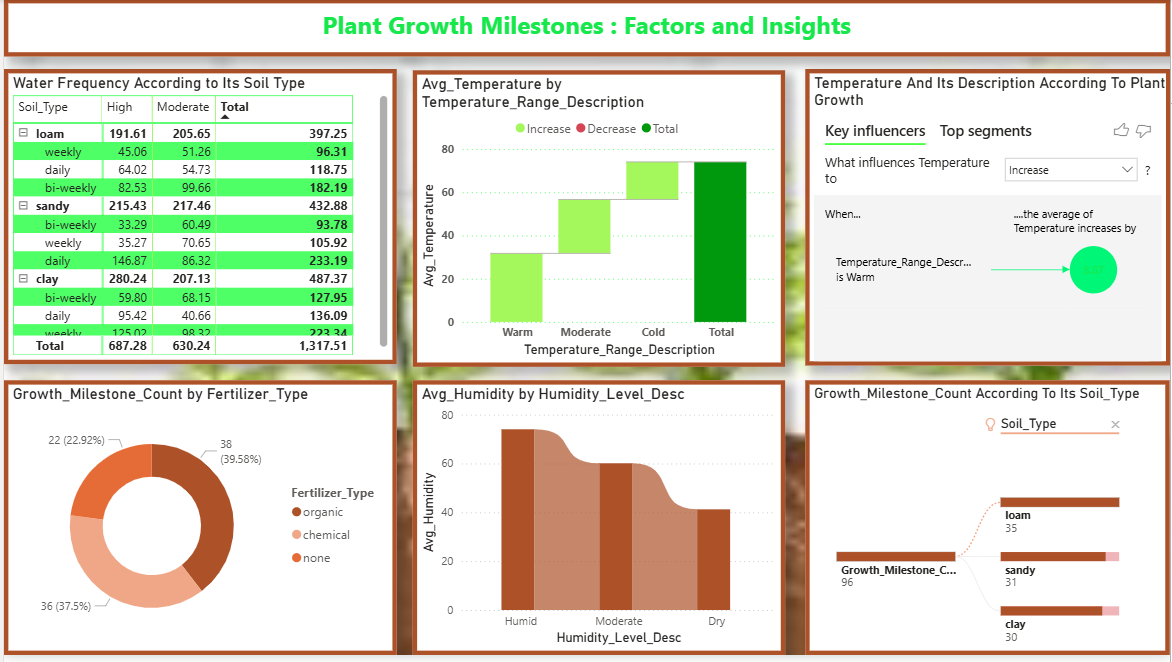

What the dashboard file says about the page in this screenshot:
{"tool":"powerbi","page":{"name":"Dashboard","canvas":[1280,720],"ordinal":0},"visuals":[{"type":"pivotTable","title":"Water Frequency According to Its Soil Type","fields":{"Rows":["plant_growth_data.Soil_Type","plant_growth_data.Water_Frequency"],"Columns":["plant_growth_data.Temp_Range"],"Values":["Sum(plant_growth_data.Sunlight_Hours)"]},"box":[0,77.1,431.4,324.3],"z":0},{"type":"waterfallChart","fields":{"Category":["plant_growth_data.Temperature_Range_Description"],"Y":["plant_growth_data.Avg_Temperature"]},"box":[448.7,78.2,408.9,325.2],"z":1000},{"type":"keyDriversVisual","title":"Temperature And Its Description According To Plant Growth","fields":{"Target":["plant_growth_data.Temperature"],"ExplainBy":["plant_growth_data.Temperature_Range_Description"]},"box":[879.6,76.8,400.7,325.2],"z":2000},{"type":"donutChart","fields":{"Category":["plant_growth_data.Fertilizer_Type"],"Y":["plant_growth_data.Growth_Milestone_Count"]},"box":[0,418.6,431.4,301.4],"z":3000},{"type":"ribbonChart","fields":{"Y":["plant_growth_data.Avg_Humidity"],"Category":["plant_growth_data.Humidity_Level_Desc"]},"box":[448.6,418.6,408.6,301.4],"z":4000},{"type":"decompositionTreeVisual","title":"Growth_Milestone_Count According To Its Soil_Type","fields":{"Analyze":["plant_growth_data.Growth_Milestone_Count"],"ExplainBy":["plant_growth_data.Soil_Type"]},"box":[880,418.6,400,301.4],"z":5000},{"type":"textbox","box":[0,0,1280,62.9],"z":6000}]}

Visuals, with their boxes in screenshot pixels (x1, y1, x2, y2), scaled from the page's 1280x720 canvas onto the 1172x662 screenshot:
"Water Frequency According to Its Soil Type" pivotTable: [left=0, top=71, right=395, bottom=369]
waterfallChart - plant_growth_data.Temperature_Range_Description x plant_growth_data.Avg_Temperature: [left=411, top=72, right=785, bottom=371]
"Temperature And Its Description According To Plant Growth" keyDriversVisual: [left=805, top=71, right=1171, bottom=370]
donutChart - plant_growth_data.Fertilizer_Type x plant_growth_data.Growth_Milestone_Count: [left=0, top=385, right=395, bottom=661]
ribbonChart - plant_growth_data.Avg_Humidity x plant_growth_data.Humidity_Level_Desc: [left=411, top=385, right=785, bottom=661]
"Growth_Milestone_Count According To Its Soil_Type" decompositionTreeVisual: [left=806, top=385, right=1171, bottom=661]
textbox: [left=0, top=0, right=1171, bottom=58]
